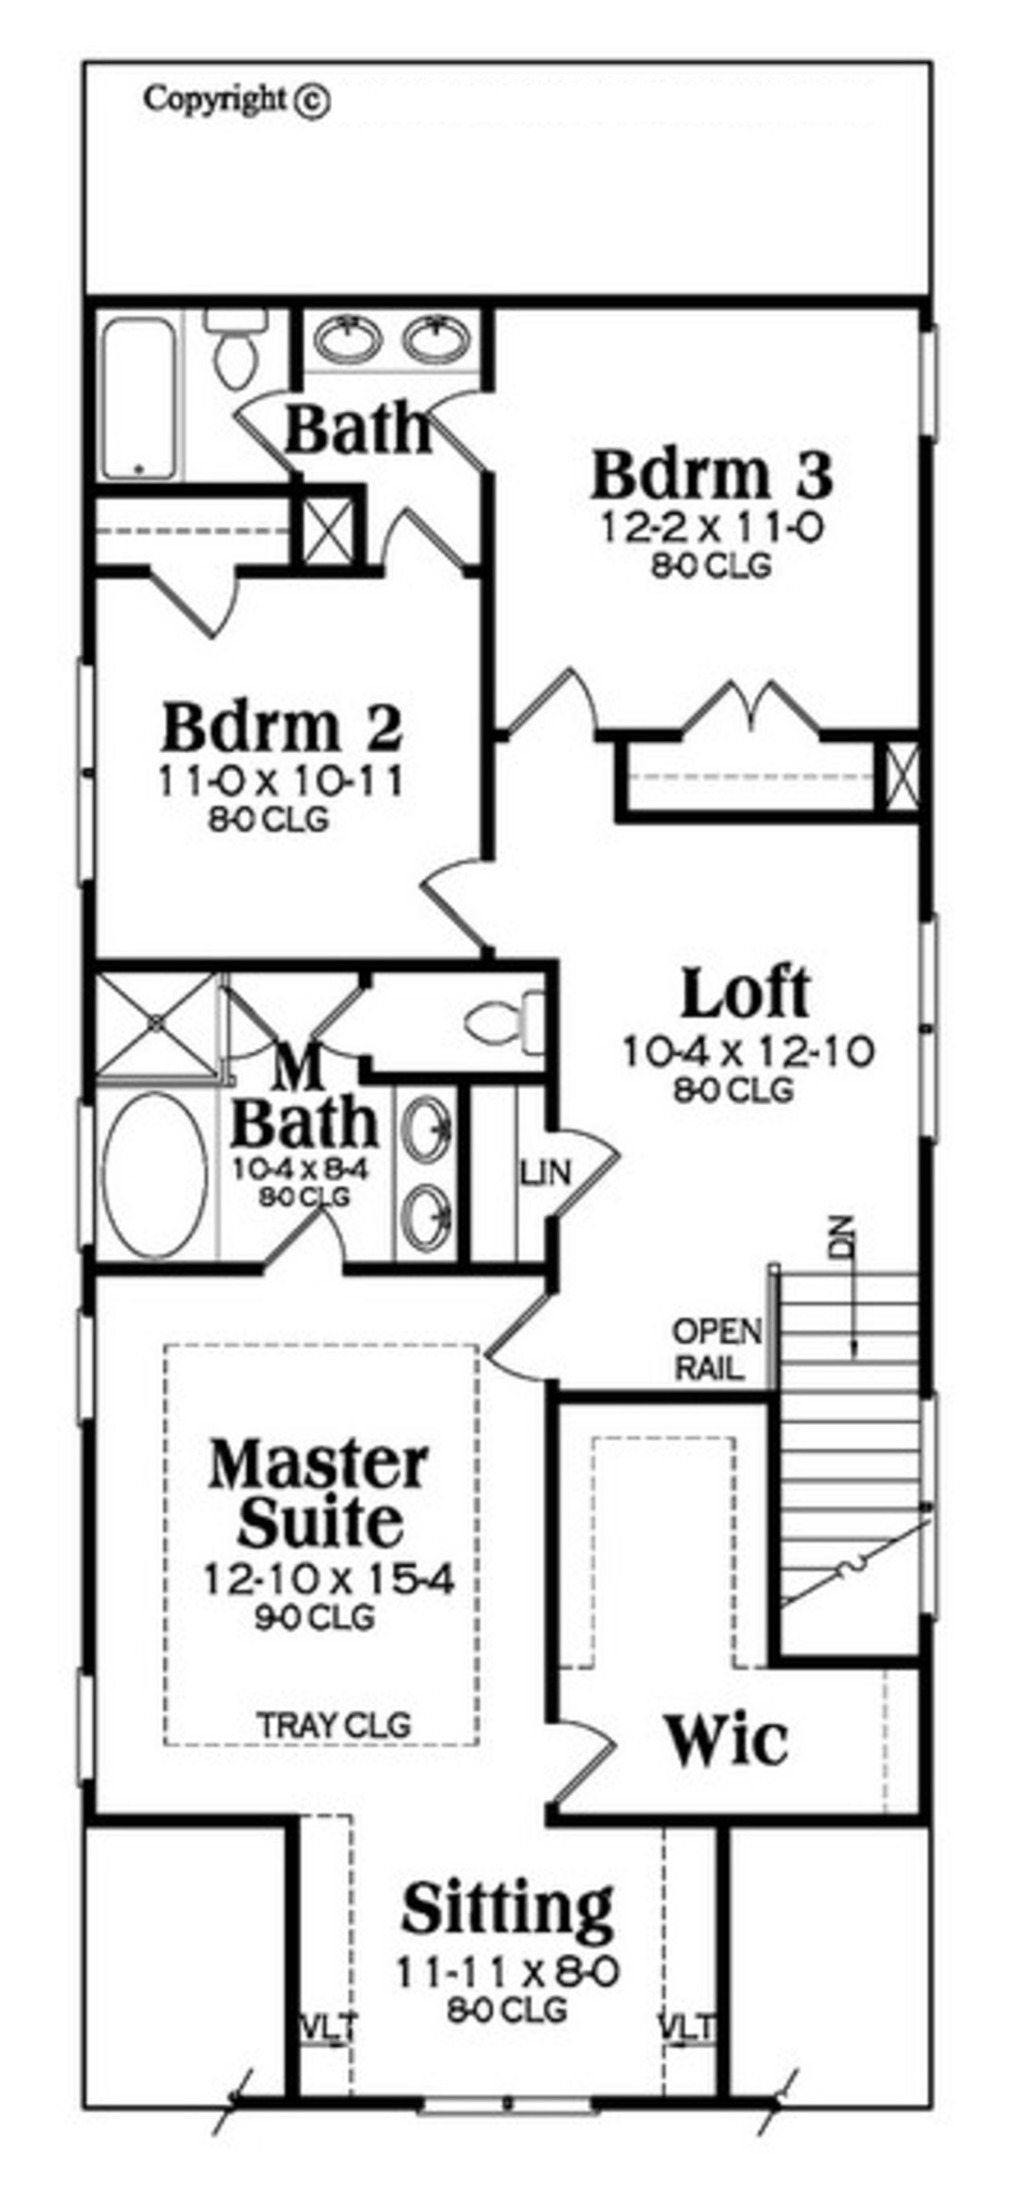door: (96, 548, 265, 641), (683, 667, 868, 751), (396, 842, 513, 957), (472, 1258, 573, 1389), (412, 372, 515, 496), (534, 1706, 630, 1823), (472, 658, 606, 737), (354, 503, 482, 585), (227, 382, 320, 485), (300, 955, 385, 1067), (548, 1113, 623, 1228), (265, 1198, 348, 1289), (206, 982, 279, 1067)
large_sink: (465, 982, 573, 1079), (192, 300, 272, 403)
small_sink: (375, 1072, 472, 1268), (313, 302, 492, 375)
stairs: (751, 1242, 933, 1685)
window: (417, 2054, 592, 2115), (59, 1665, 120, 1816), (910, 916, 940, 1158), (65, 658, 96, 892), (68, 1320, 120, 1434), (903, 316, 940, 451), (72, 1086, 99, 1268)
